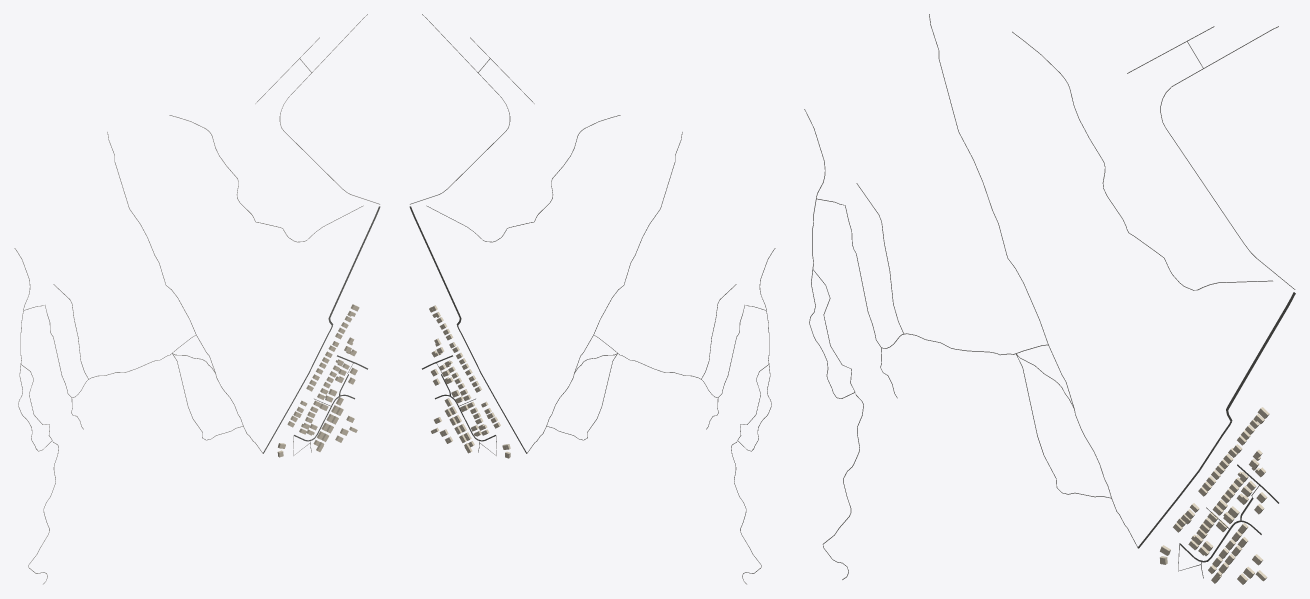
File: historic-palestine-05_18_3474_3127.glb
3 views of the same model, side by side, from view 1: azimuth 30°, elevation 25°; view 2: azimuth 150°, elevation 25°; view 3: azimuth 330°, elevation 25° (orthographic). The views are drawn at different scales.
Bounding box in the file's own units: 1041 × 1336 × 8.7.
